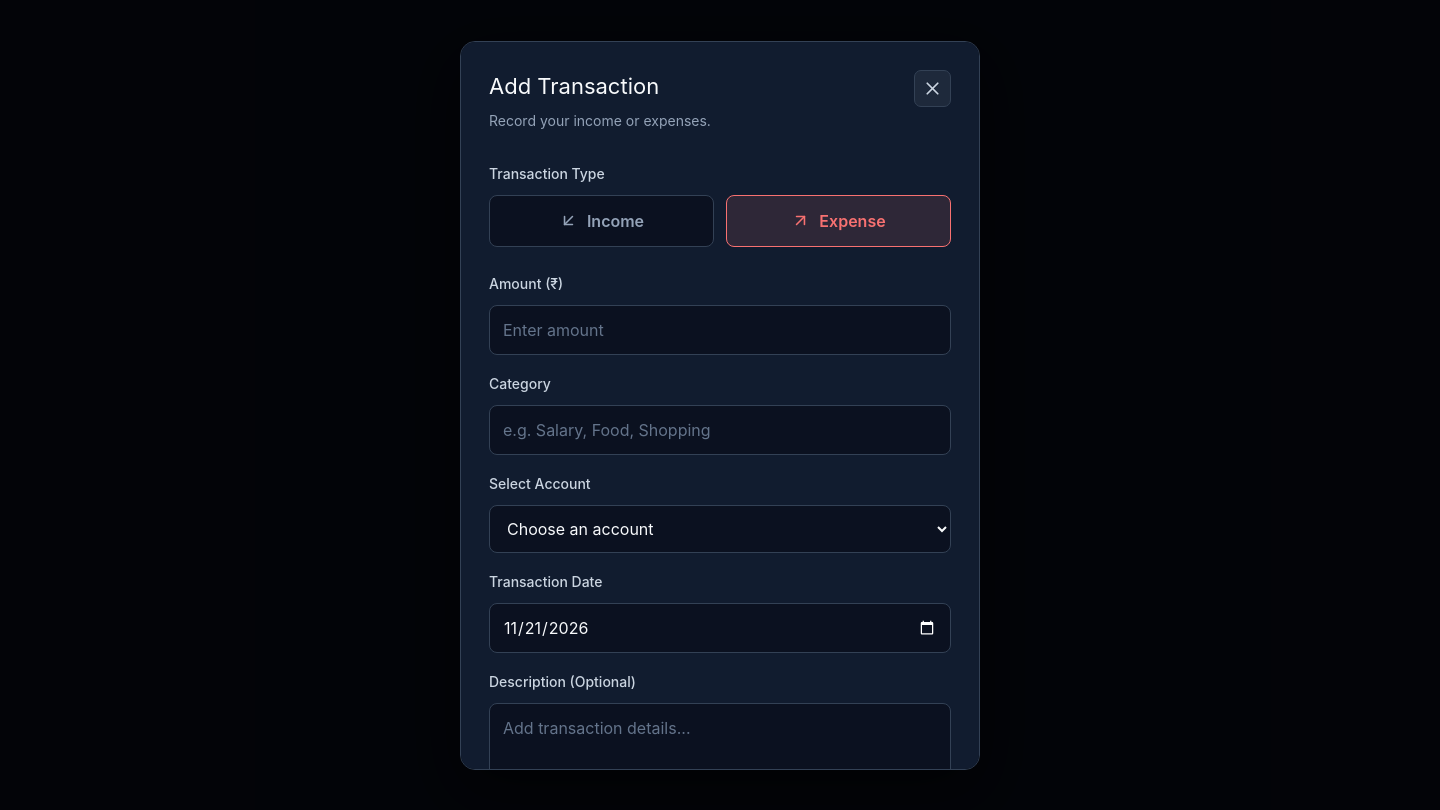
Test: Add Transaction Modal Tests › should change transaction type to Income
This screenshot has width=1440, height=810.
Click the button "Income" at (602, 220), box [489,194,714,246]
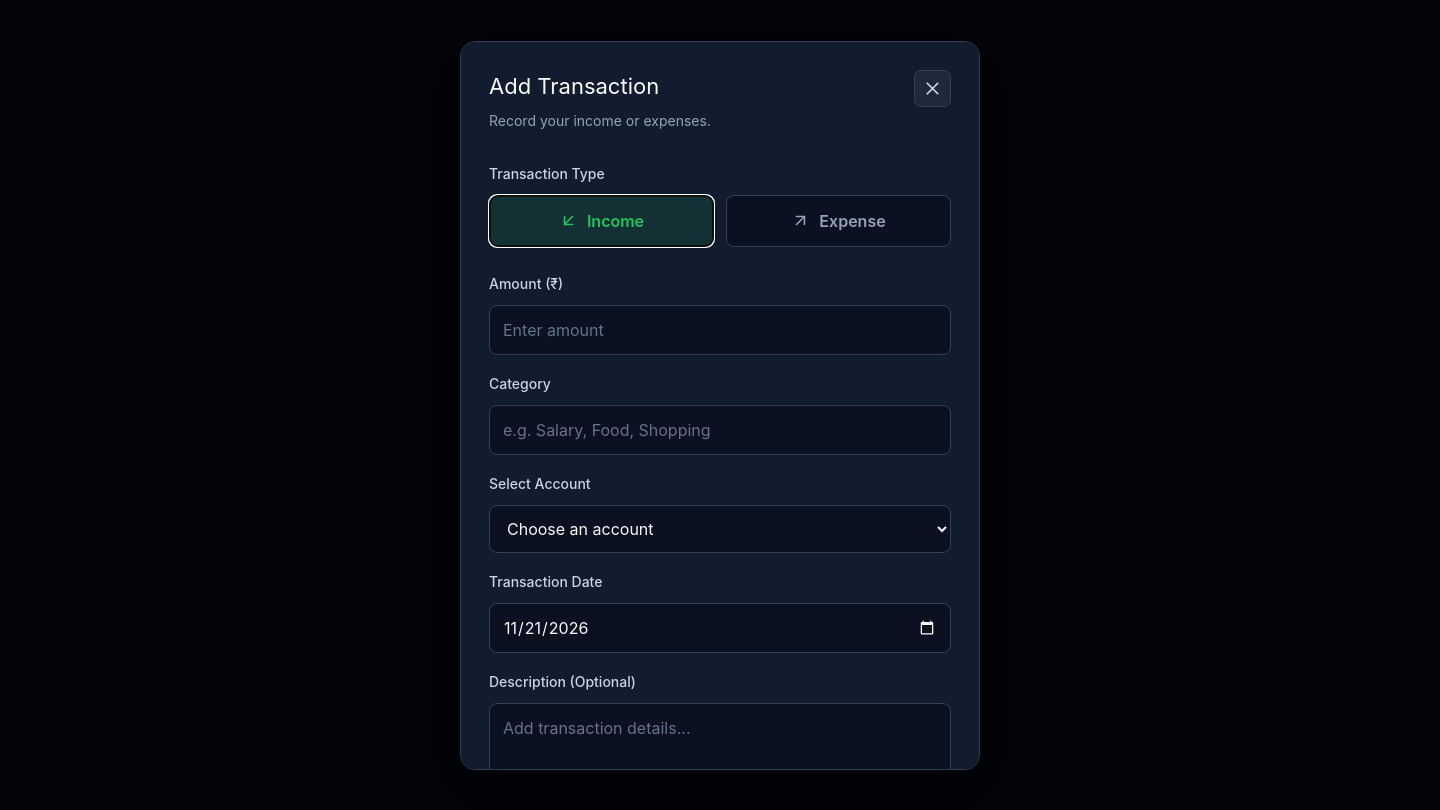
Now the button "Income" has class "active", box [489,194,714,246]
